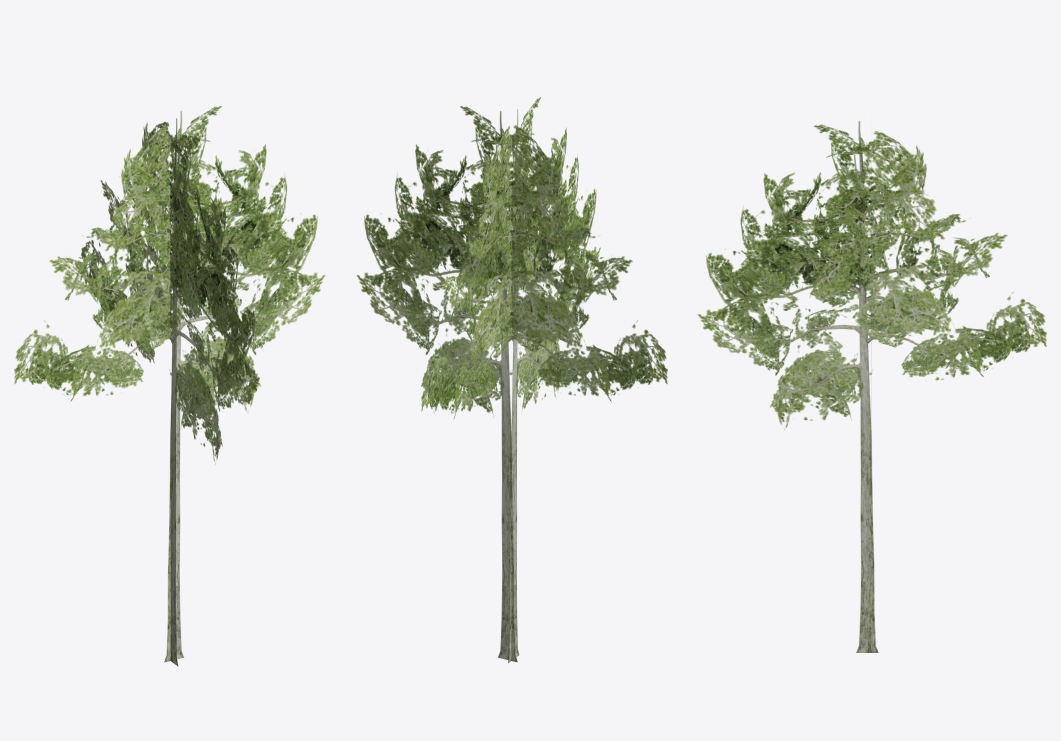
Rendered from tall_tree2.glb.
3 renders of one model, left to right at view 1: azimuth 30°, elevation 25°; view 2: azimuth 150°, elevation 25°; view 3: azimuth 270°, elevation 25°, orthographic. The views are drawn at different scales.
Parts seen in each view (by area): view 1: tall_tree_low; view 2: tall_tree_low; view 3: tall_tree_low.
Boxes of the visible parts, left/top/right/bottom form: tall_tree_low: left=14, top=106, right=324, bottom=666; tall_tree_low: left=357, top=97, right=667, bottom=663; tall_tree_low: left=697, top=121, right=1046, bottom=652.
Bounding box in the file's own units: 6.1 × 10.85 × 6.1.
Materials: 1 (1 with a texture image).
